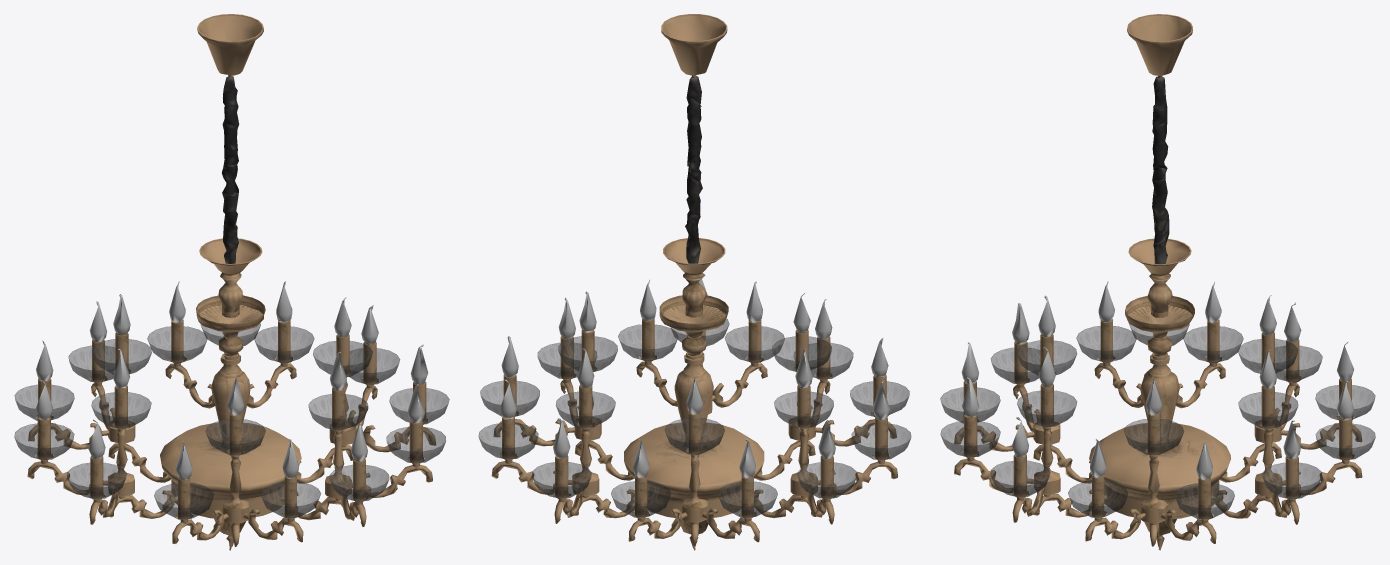
The model's file is Chandelier_03.glb.
3 renders of one model, left to right at view 1: azimuth 30°, elevation 25°; view 2: azimuth 150°, elevation 25°; view 3: azimuth 270°, elevation 25°, orthographic.
Visible parts, largest first — view 1: Chandelier_03; view 2: Chandelier_03; view 3: Chandelier_03.
Boxes of the visible parts, <box> form: Chandelier_03: <box>14,14,449,550</box>; Chandelier_03: <box>478,14,911,550</box>; Chandelier_03: <box>940,14,1375,550</box>.
Bounding box in the file's own units: 0.7804 × 1.04 × 0.7853.
2 materials, 2 textured.
